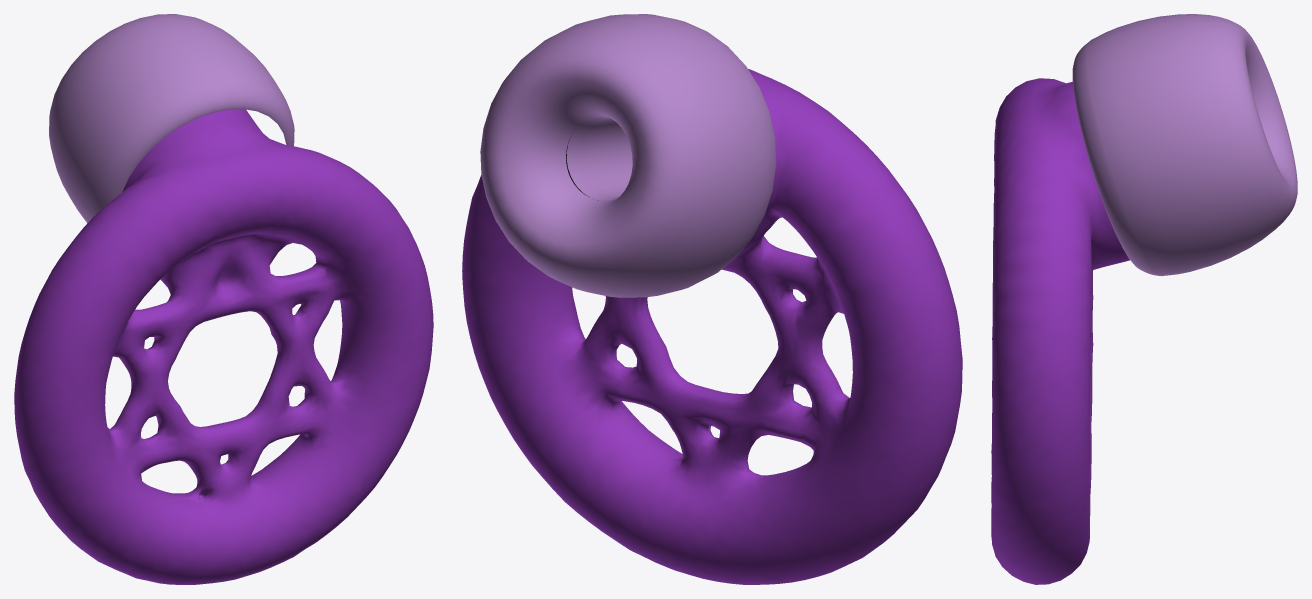
Rendered from earbud2.gltf.
3 renders of one model, left to right at view 1: azimuth 30°, elevation 25°; view 2: azimuth 150°, elevation 25°; view 3: azimuth 270°, elevation 25°, orthographic. The views are drawn at different scales.
Visible parts, largest first — view 1: Volume_Mesher_remesh, Latheear_piece; view 2: Volume_Mesher_remesh, Latheear_piece; view 3: Volume_Mesher_remesh, Latheear_piece.
Part boxes in pixels (bbox=[...]): Volume_Mesher_remesh: bbox=[14, 109, 433, 584]; Latheear_piece: bbox=[49, 14, 294, 223]; Volume_Mesher_remesh: bbox=[462, 69, 962, 584]; Latheear_piece: bbox=[480, 14, 776, 297]; Volume_Mesher_remesh: bbox=[991, 78, 1129, 584]; Latheear_piece: bbox=[1072, 14, 1297, 276].
Bounding box in the file's own units: 3.57 × 4.2 × 2.16.
